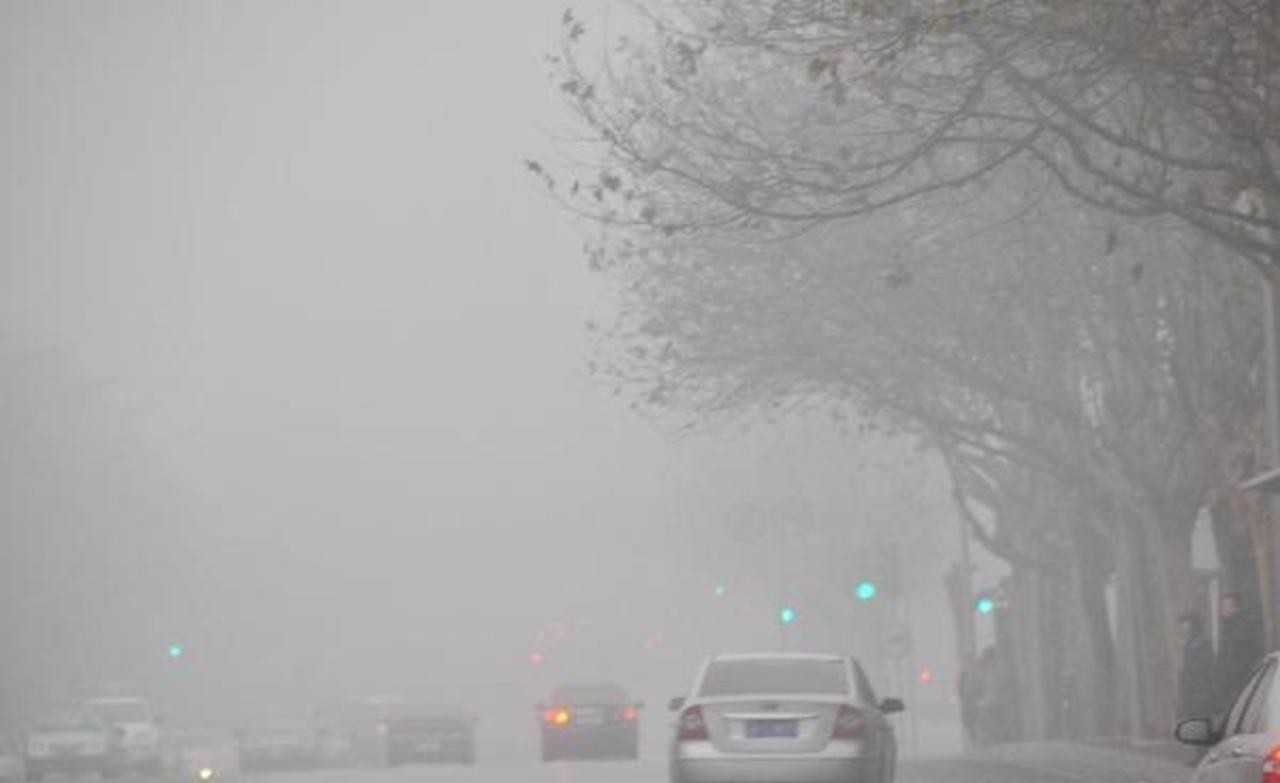car: (669, 654, 903, 782), (1180, 644, 1277, 781), (533, 679, 640, 764), (18, 697, 122, 773), (382, 693, 478, 767), (226, 720, 330, 767), (96, 694, 158, 768)
